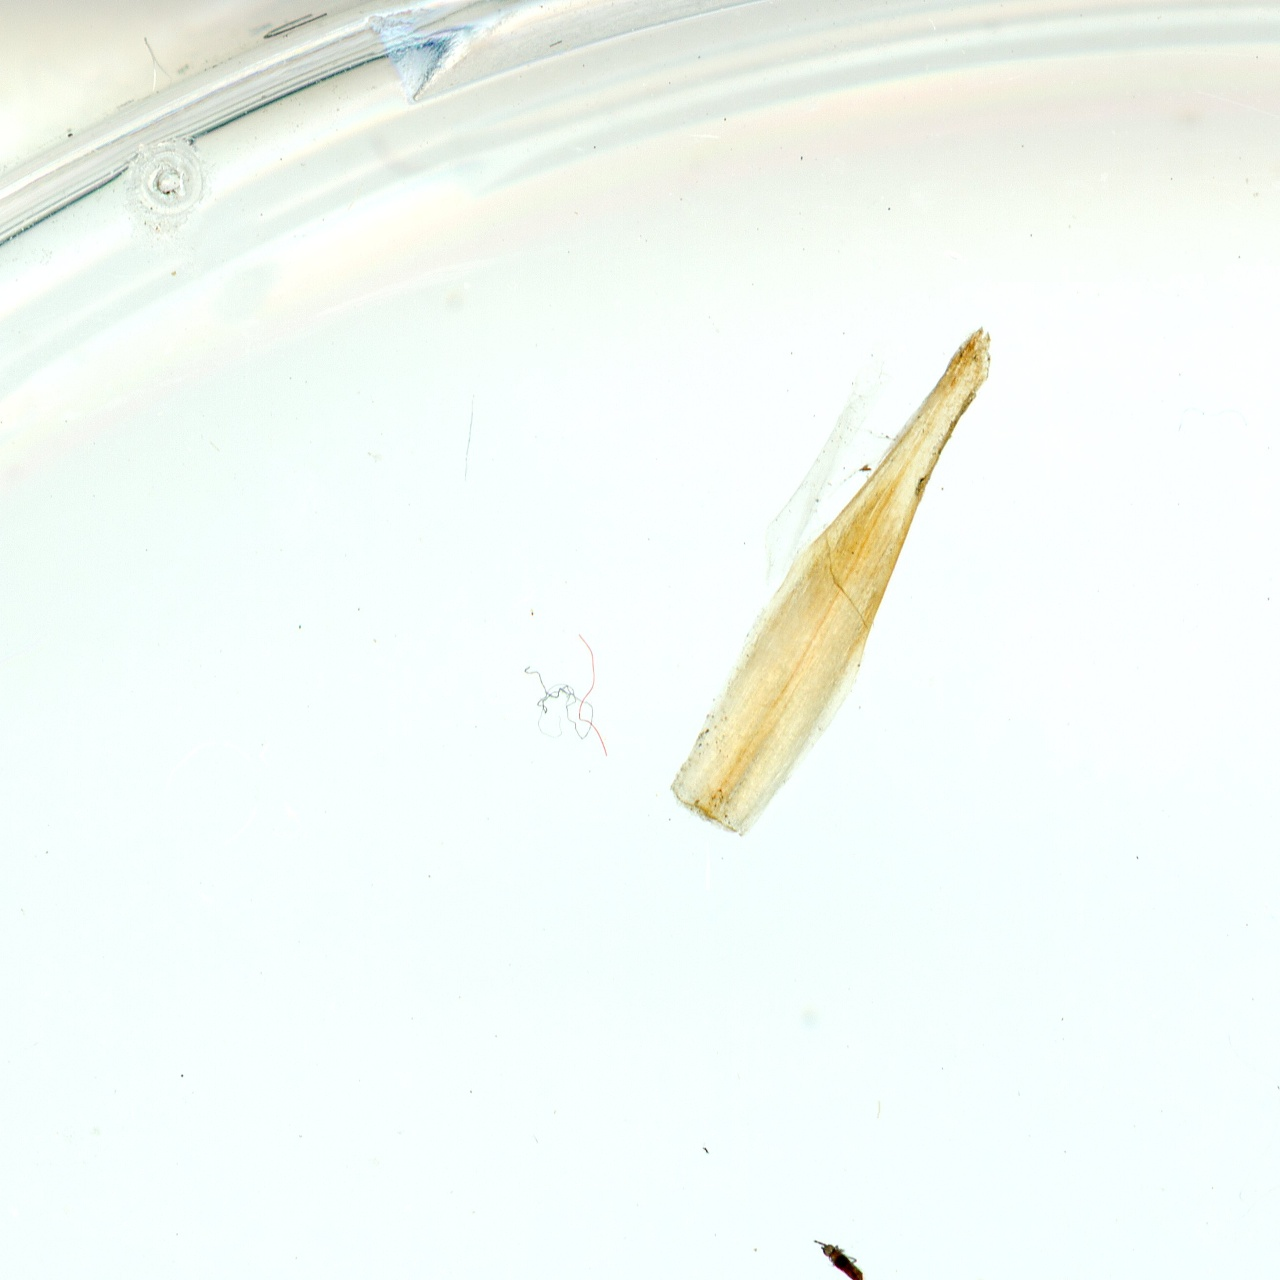arthropod: (797, 1221, 888, 1280)
